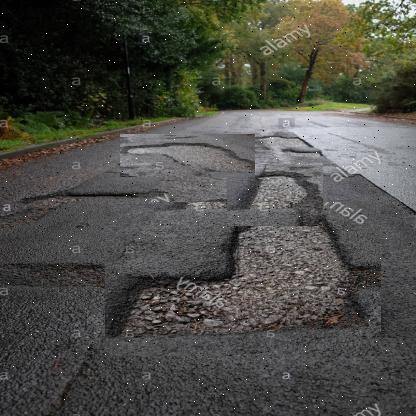damage: (105, 202, 382, 357), (227, 163, 324, 227), (120, 134, 256, 178), (19, 183, 172, 212), (246, 127, 330, 166)
